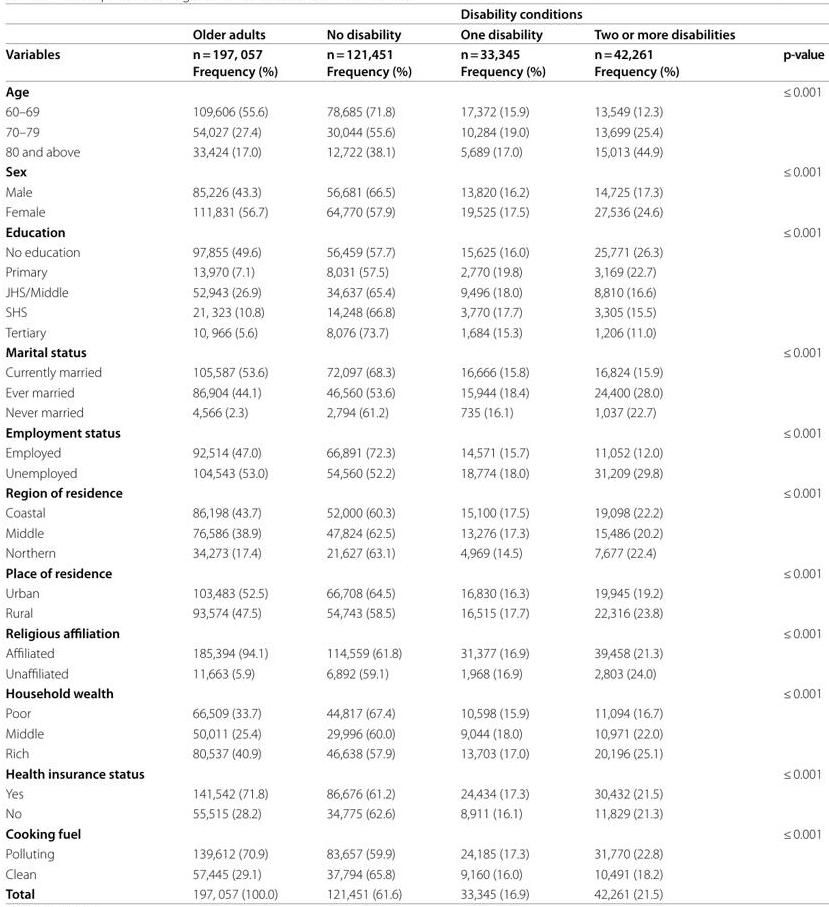table: (5, 4, 824, 901)
table column: (569, 4, 758, 901), (5, 4, 168, 901), (301, 4, 435, 901), (435, 4, 569, 901), (168, 4, 301, 901), (758, 4, 824, 901)
table column header: (5, 4, 824, 80)
table row: (5, 23, 824, 80), (5, 80, 824, 101), (5, 281, 824, 302), (5, 341, 824, 362), (5, 421, 824, 442), (5, 481, 824, 502), (5, 622, 824, 643), (5, 682, 824, 703), (5, 762, 824, 783), (5, 822, 824, 843), (5, 101, 824, 121), (5, 121, 824, 141), (5, 141, 824, 161), (5, 161, 824, 181), (5, 181, 824, 201), (5, 201, 824, 221), (5, 221, 824, 241), (5, 241, 824, 261), (5, 261, 824, 281), (5, 302, 824, 322), (5, 362, 824, 382), (5, 382, 824, 402), (5, 442, 824, 462), (5, 502, 824, 522), (5, 522, 824, 542), (5, 542, 824, 562), (5, 562, 824, 582), (5, 582, 824, 602), (5, 602, 824, 622), (5, 643, 824, 663), (5, 703, 824, 723), (5, 723, 824, 743), (5, 783, 824, 803), (5, 843, 824, 863), (5, 863, 824, 883), (5, 4, 824, 23), (5, 322, 824, 341), (5, 402, 824, 421), (5, 462, 824, 481), (5, 663, 824, 682), (5, 743, 824, 762), (5, 803, 824, 822), (5, 883, 824, 901)
table spanning cell: (5, 4, 168, 80), (301, 4, 435, 80), (168, 4, 301, 80), (435, 4, 824, 23)
